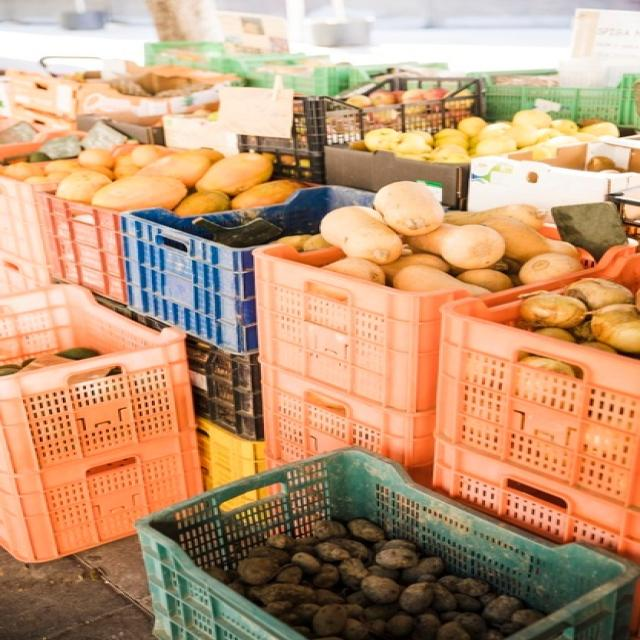basket: (135, 448, 638, 640), (0, 285, 203, 564), (222, 225, 472, 422), (229, 31, 496, 205), (122, 207, 258, 356), (257, 365, 438, 474), (38, 188, 126, 309), (200, 183, 377, 241), (185, 333, 262, 445), (0, 176, 55, 265), (199, 418, 264, 490), (92, 293, 166, 334), (218, 487, 269, 514)
